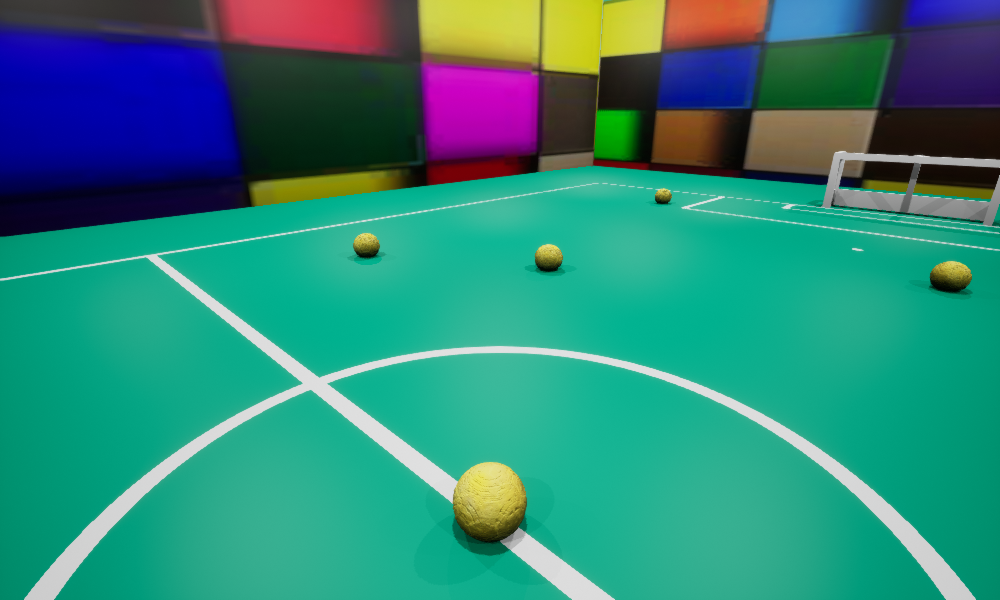b: (453, 462, 526, 541), (930, 261, 971, 291), (535, 244, 562, 270), (353, 233, 379, 257), (655, 188, 671, 203)
g: (822, 151, 999, 225)
